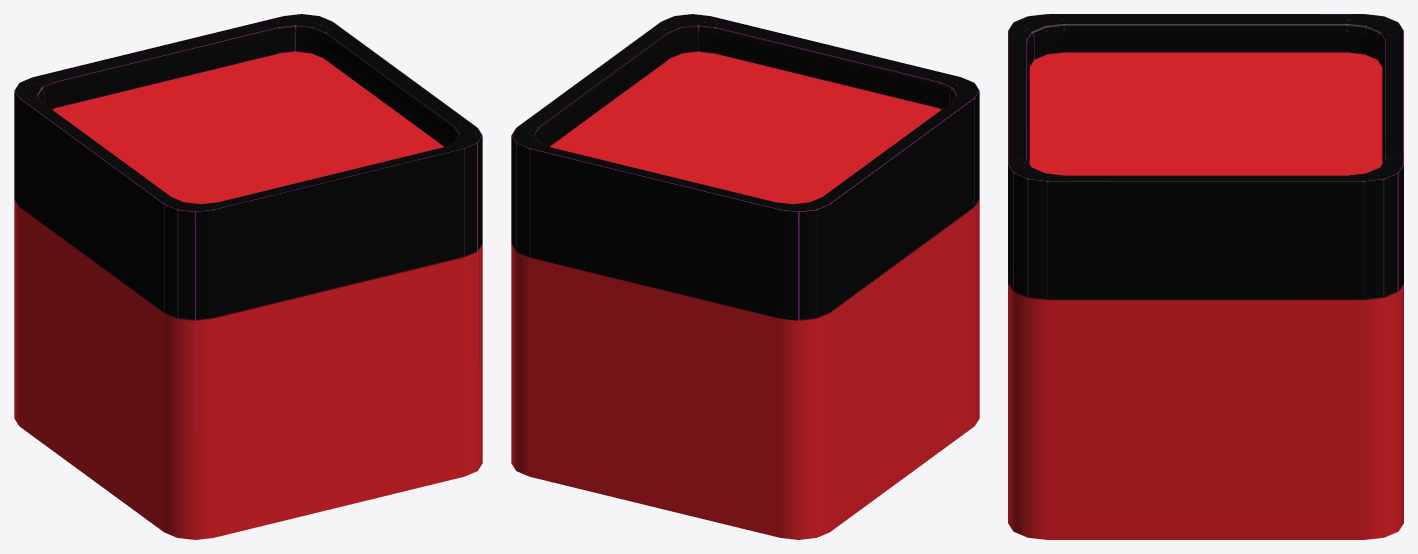
File: StageRedLv2.fbx
3 renders of one model, left to right at view 1: azimuth 30°, elevation 25°; view 2: azimuth 150°, elevation 25°; view 3: azimuth 270°, elevation 25°, orthographic. The views are drawn at different scales.
Parts seen in each view (by area): view 1: pCube1; view 2: pCube1; view 3: pCube1.
Boxes of the visible parts, x1,y1,x2,y2 form: pCube1: (14,14,482,539); pCube1: (511,14,979,539); pCube1: (1008,14,1403,539).
Size of the model in its own units: 1 by 1 by 1.
Materials: 1 (1 with a texture image).
